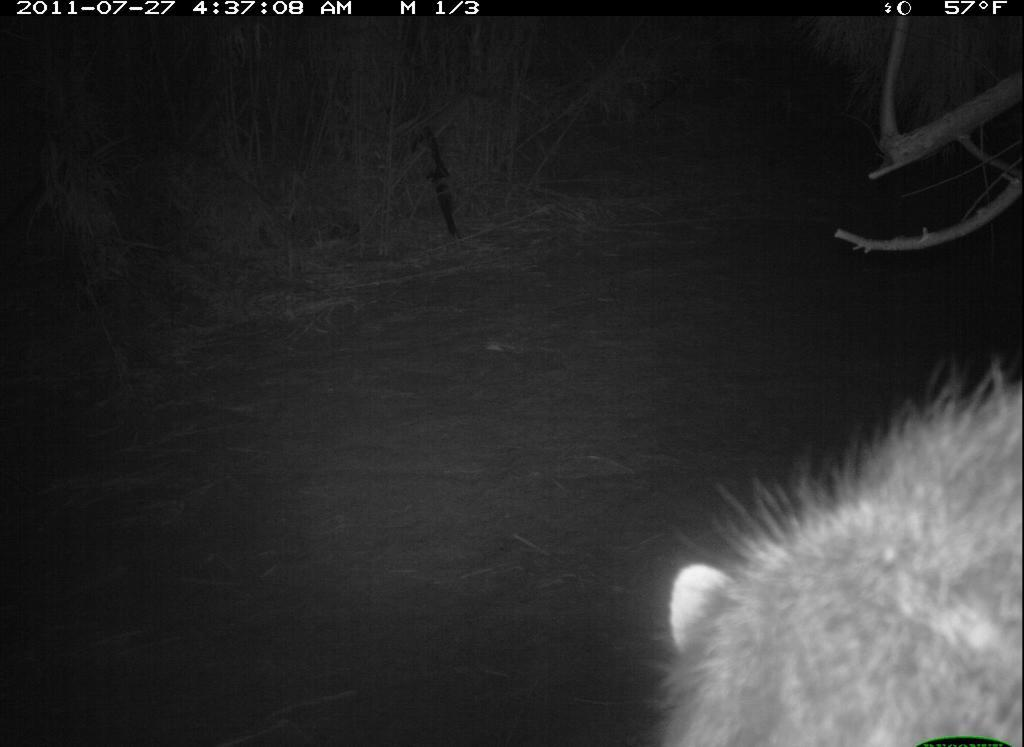raccoon: (634, 340, 1023, 747)
